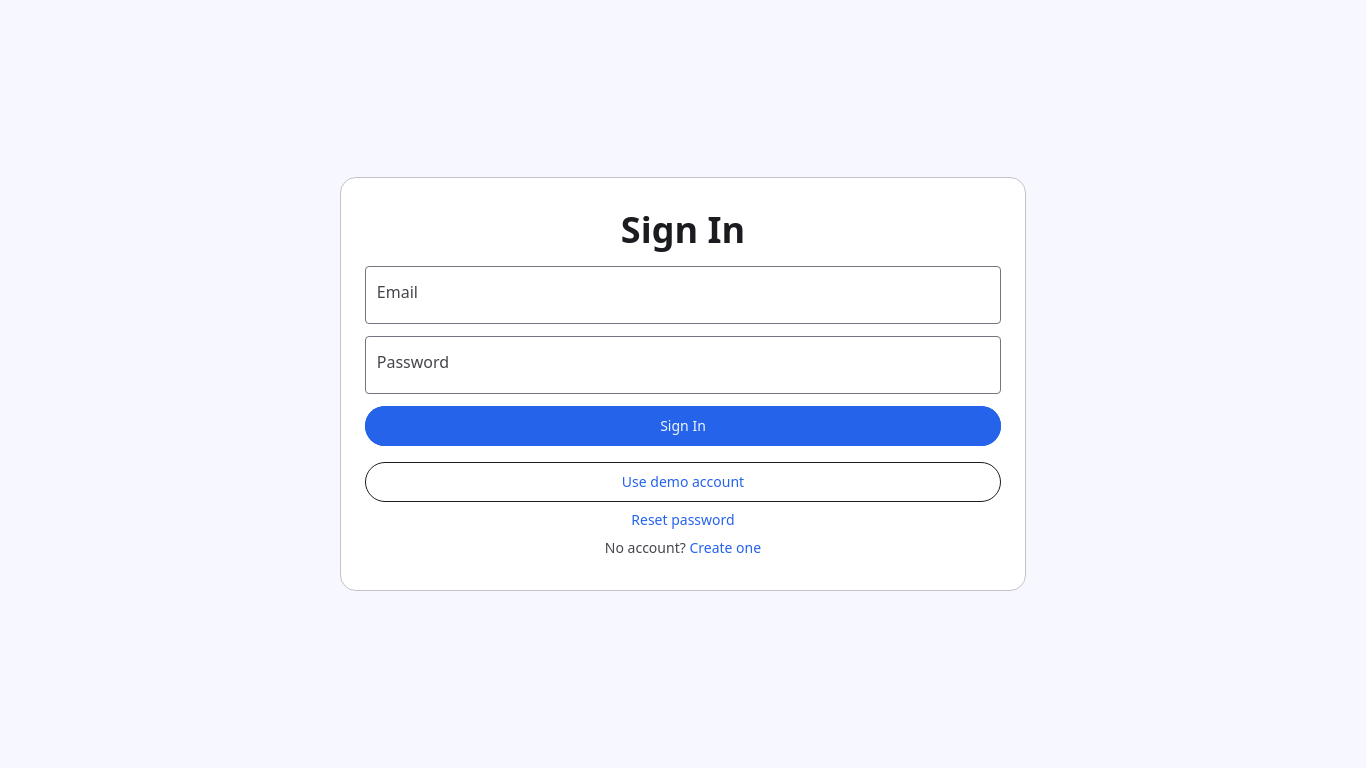
Test case: SignIn page tests › After click in  use demo › Should render the modal text correctly
Click the button "Use demo account" at (683, 482), box [365,462,1001,502]
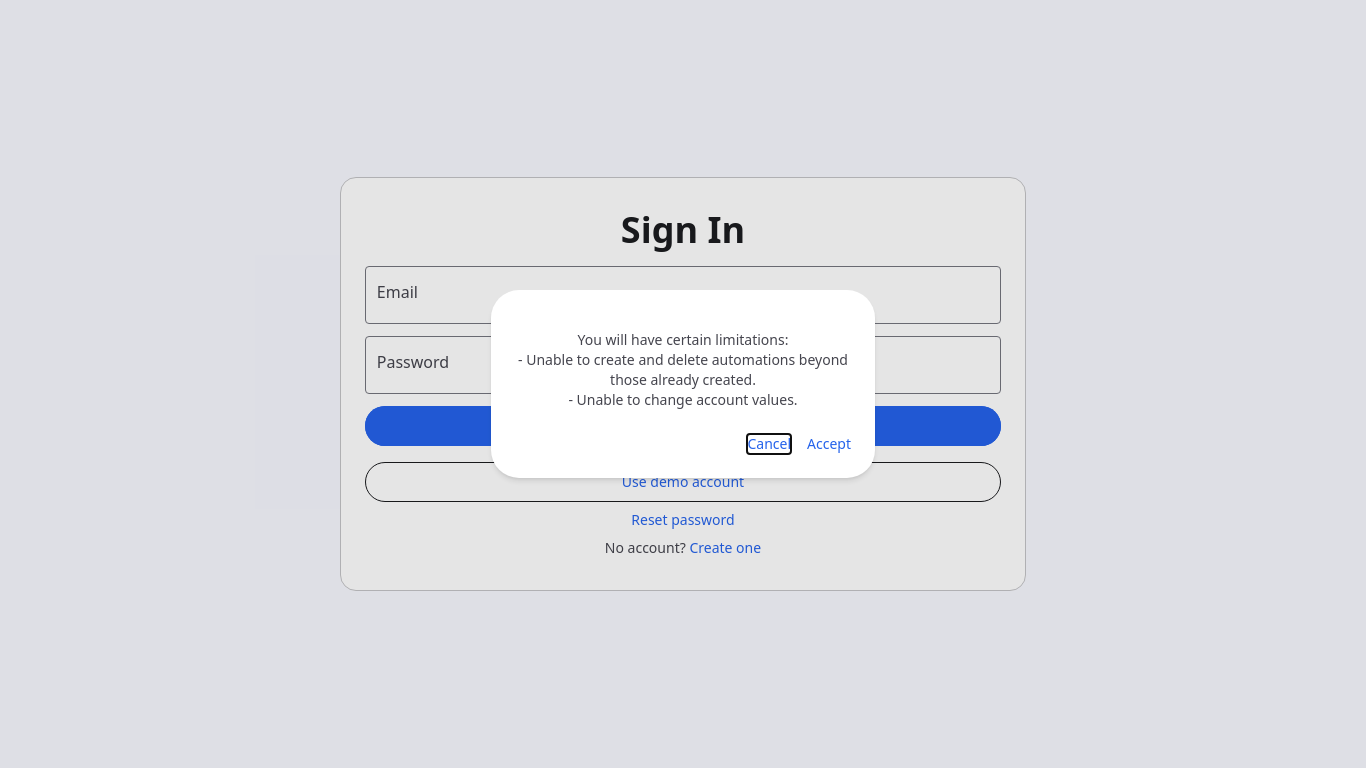
Expected: the text "You will have certain limitations:." is shown, [518,330,848,409]
Expected: the button "Cancel" is shown, [748,434,791,454]
Expected: the button "Accept" is shown, [807,434,851,454]
